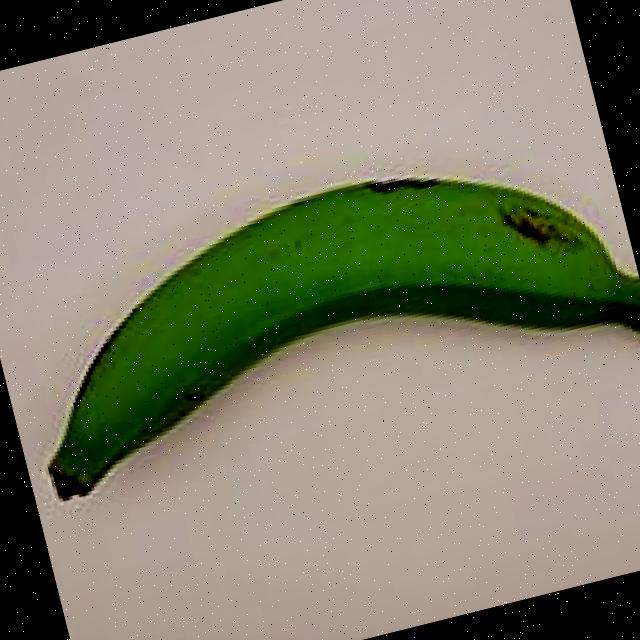Raw: (0, 84, 640, 571)
